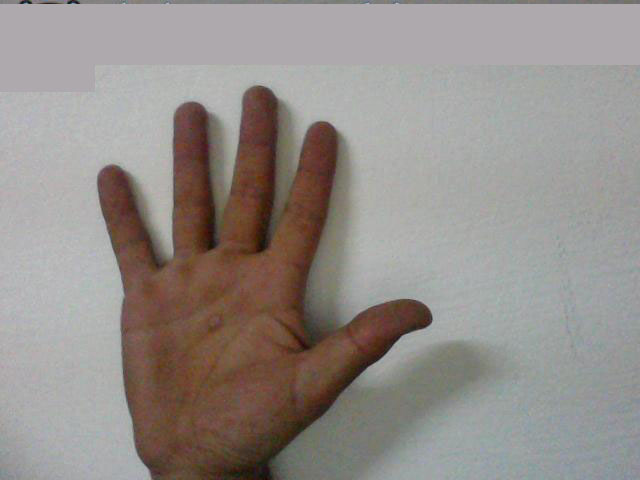hand: (88, 83, 446, 466)
